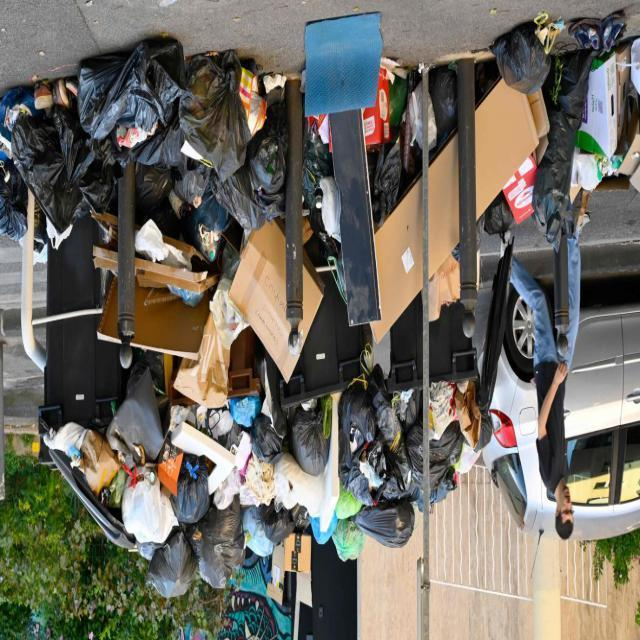Trashbag: (76, 29, 192, 154), (11, 107, 95, 230), (172, 55, 255, 171), (132, 150, 210, 215), (488, 21, 554, 91), (197, 498, 246, 587), (138, 520, 193, 598), (212, 162, 264, 234), (252, 111, 293, 195), (338, 378, 390, 444), (289, 399, 336, 470), (357, 499, 416, 554), (168, 463, 215, 529)
